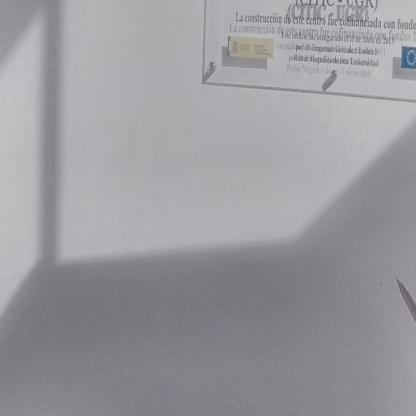knife: (394, 270, 416, 382)
